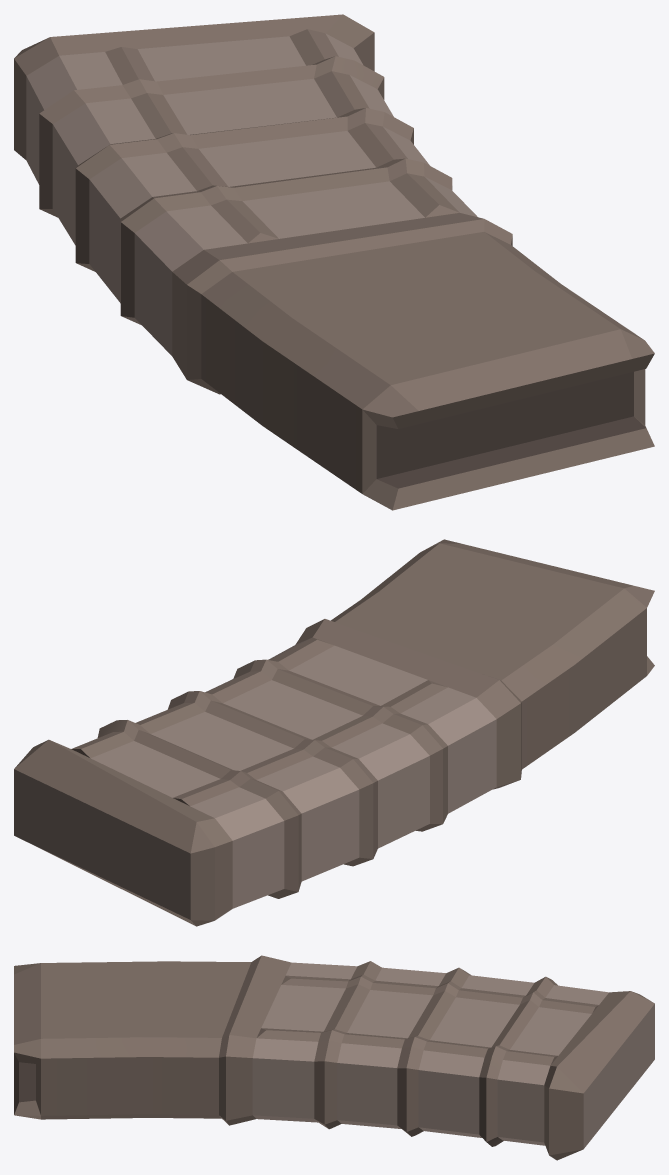
Rendered from ReaperAr15Mag.glb.
The picture shows the model from 3 angles, top to bottom: view 1: azimuth 30°, elevation 25°; view 2: azimuth 150°, elevation 25°; view 3: azimuth 270°, elevation 25°; orthographic projection. The views are drawn at different scales.
Visible parts, largest first — view 1: ReaperAr15Mag; view 2: ReaperAr15Mag; view 3: ReaperAr15Mag.
Boxes of the visible parts, bbox=[...] form: ReaperAr15Mag: bbox=[14, 14, 654, 510]; ReaperAr15Mag: bbox=[14, 539, 654, 926]; ReaperAr15Mag: bbox=[14, 955, 654, 1160].
Size of the model in its own units: 0.00416 by 0.00148 by 0.0086.
Materials: 1 (1 with a texture image).
